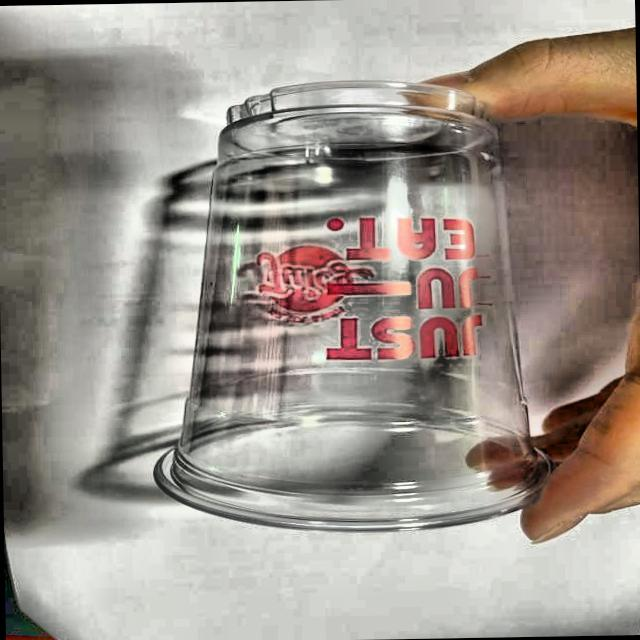plastic cup: (142, 77, 552, 540)
